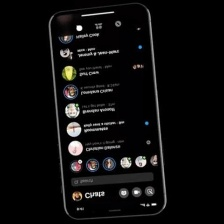phone: (44, 0, 170, 221)
